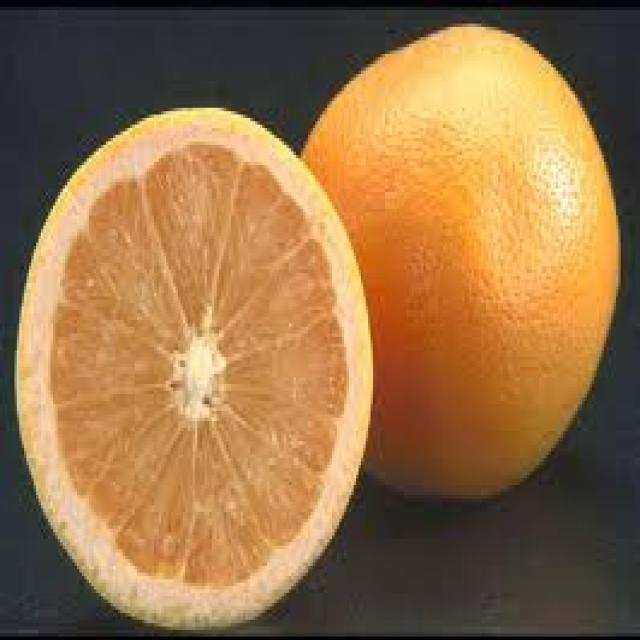greapefurit: (7, 14, 621, 626)
